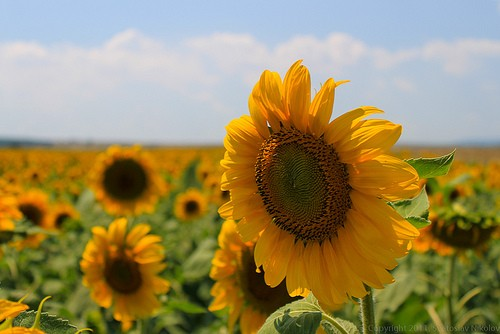flower: (215, 58, 430, 304), (77, 215, 172, 325), (69, 142, 173, 219)
